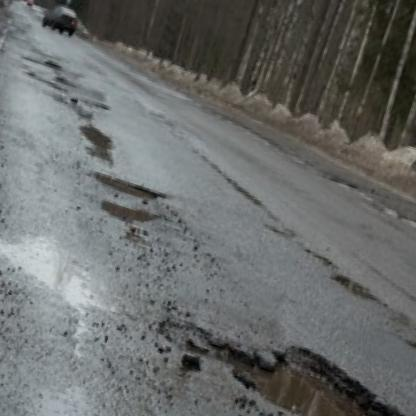pothole: (147, 301, 416, 416)
